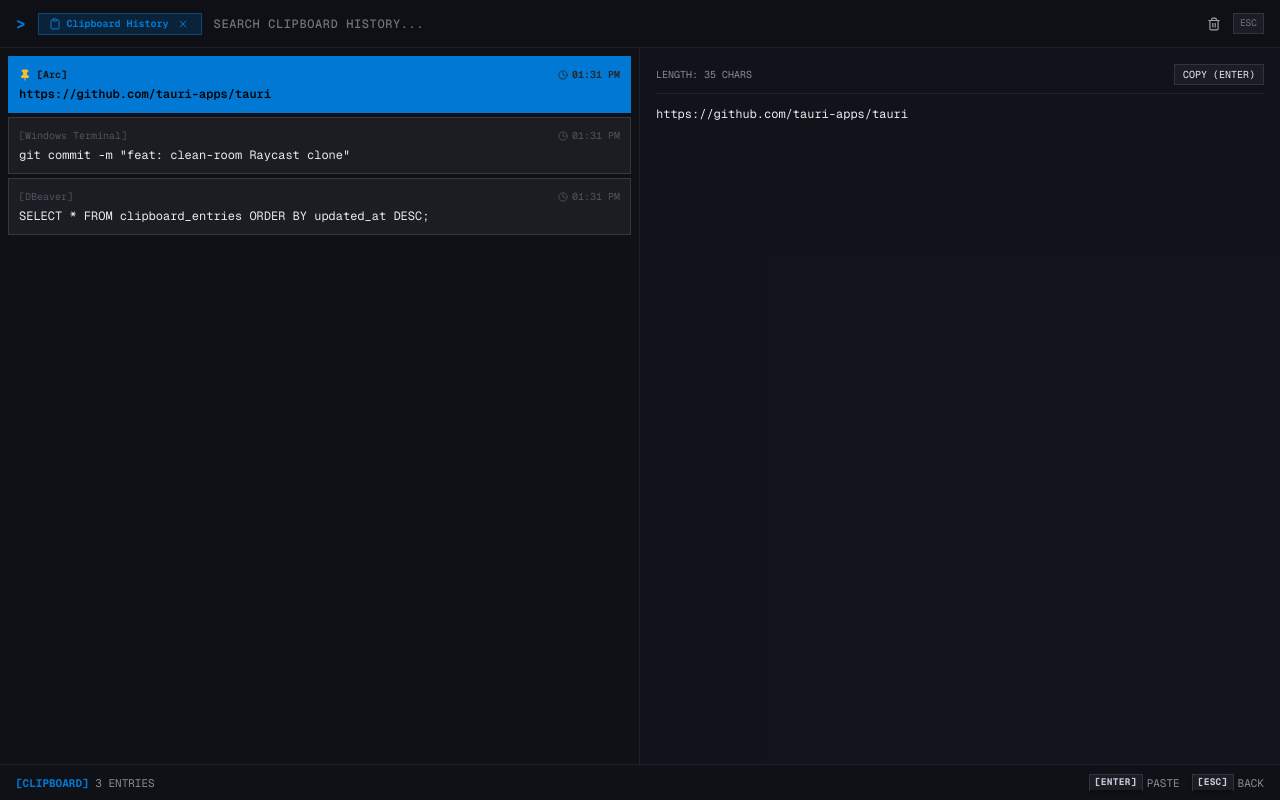
Test: Milestone 4: Clipboard & Snippets UI › renders clipboard items, allows searching and previewing
The width and height of the screenshot is (1280, 800).
Expected: the text "git commit -m \"feat: clean-room Raycast clone\"" is shown, [19,147,350,163]
Note: Test search filter
Type "tauri" into the field with placeholder "Search clipboard history..." at x=702, y=24, box [214,16,1191,32]
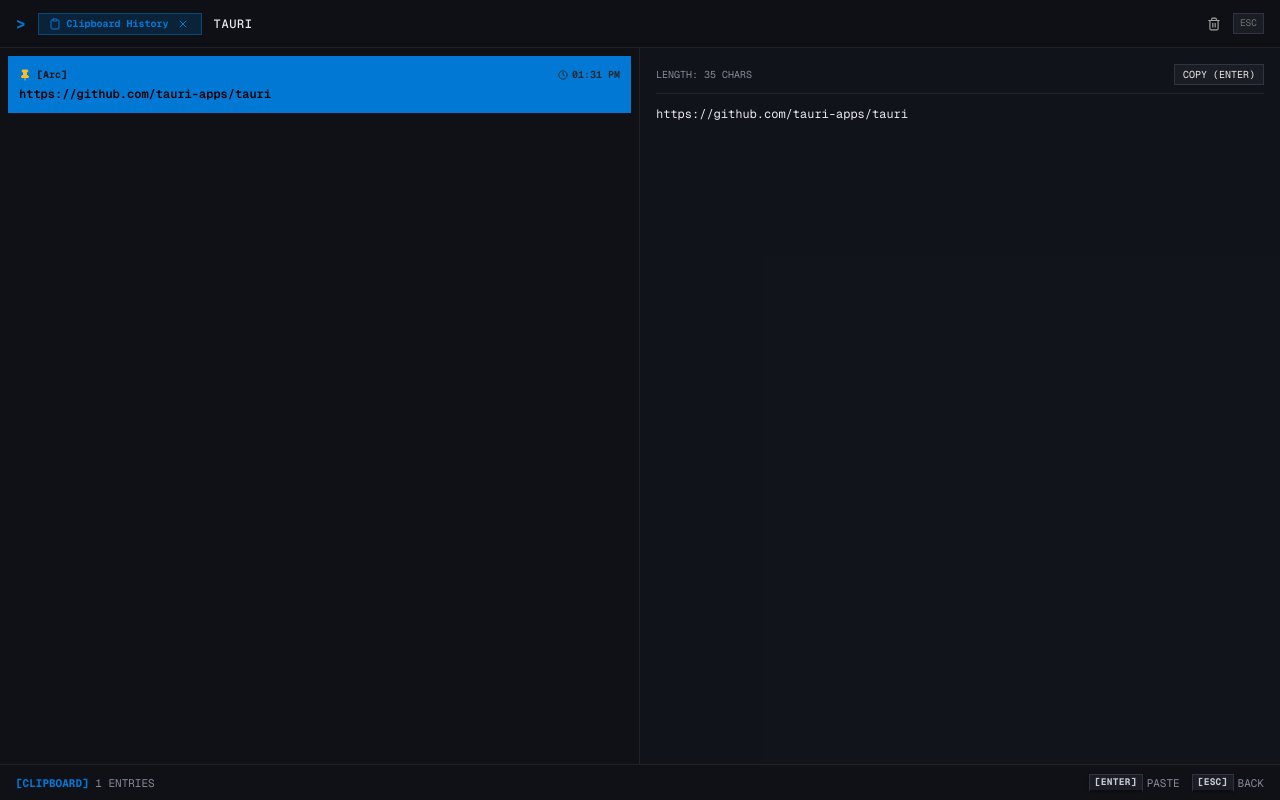
Expected: the text "git commit -m \"feat: clean-room Raycast clone\"" is gone
